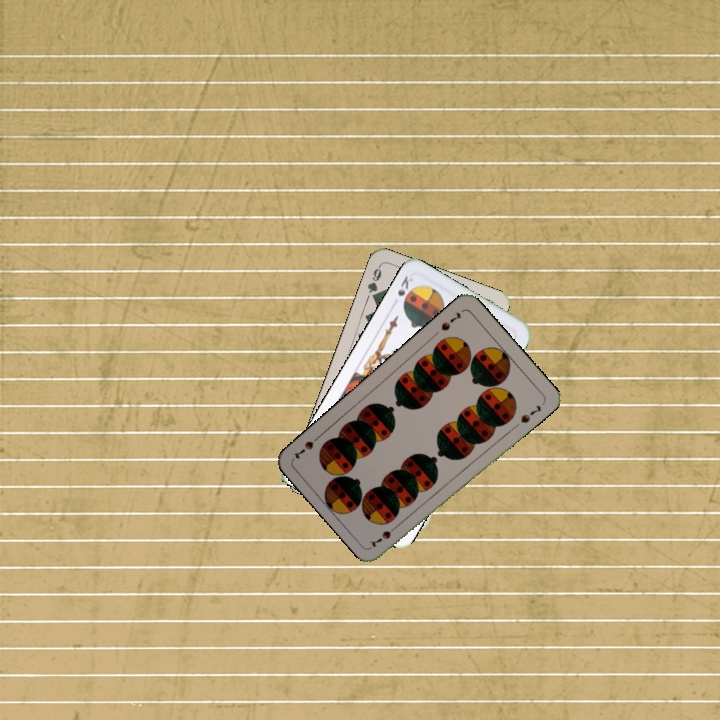G9: (363, 262, 384, 303)
S7: (367, 520, 403, 550), (437, 308, 464, 333)
SK: (389, 272, 415, 309)
